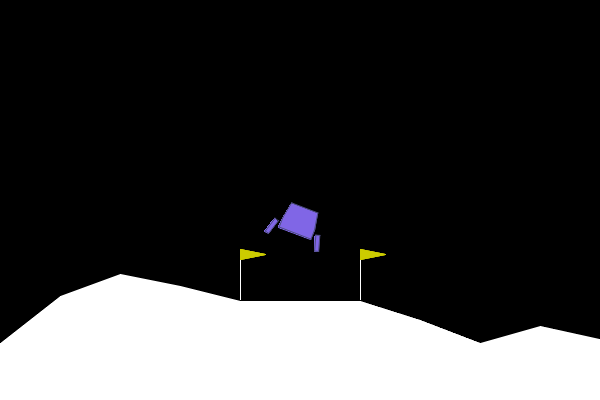lander: (263, 196, 333, 254)
